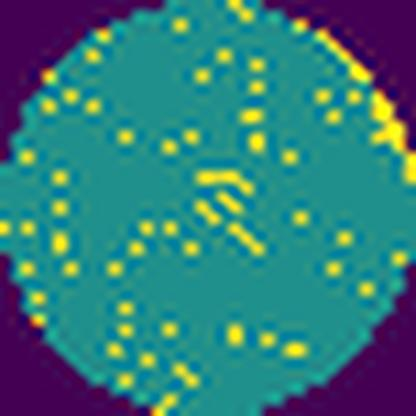Edge-Loc: (369, 94, 415, 184), (309, 30, 379, 86)
